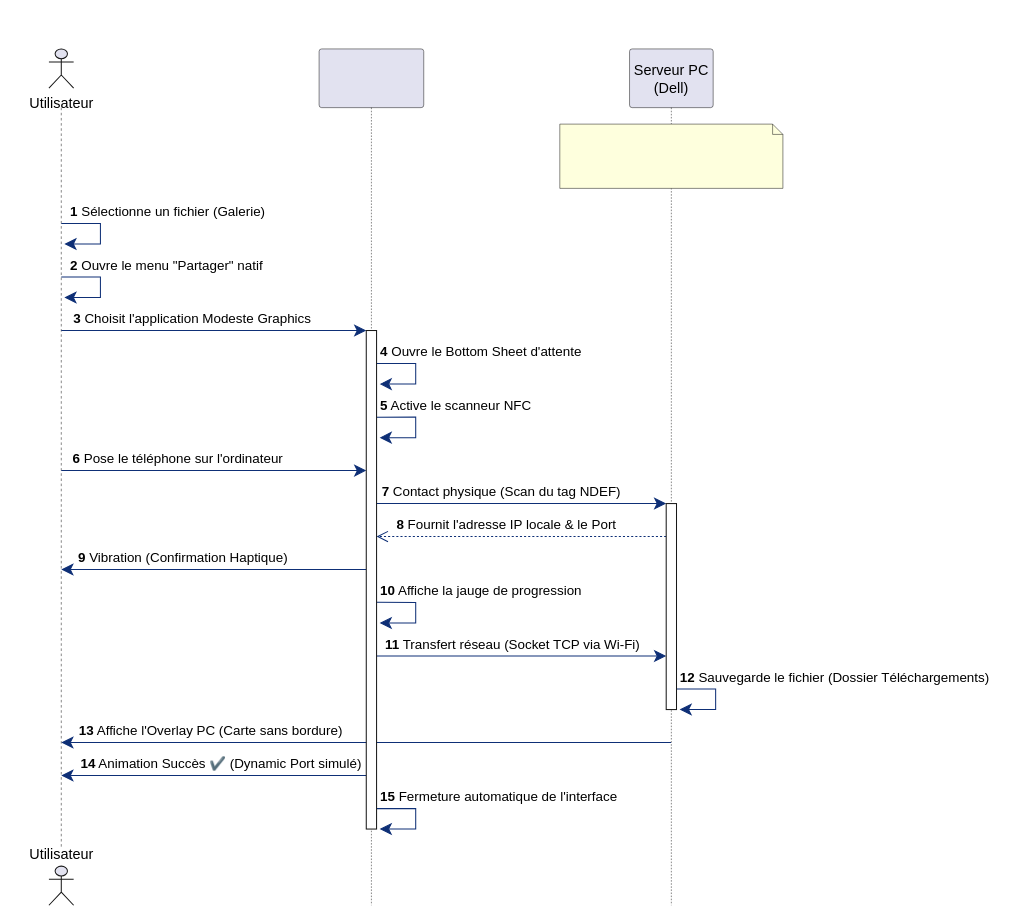
Image size: 1017x923. Some labels were removed from this diagram. The centre of each missing label's shape, as x and y in pixels:
Client Android (Tecno): the point at 371,476
Le service tourne en arrière-plan Écoute sur le port 8080 Diffuse IP via NFC: the point at 671,155
